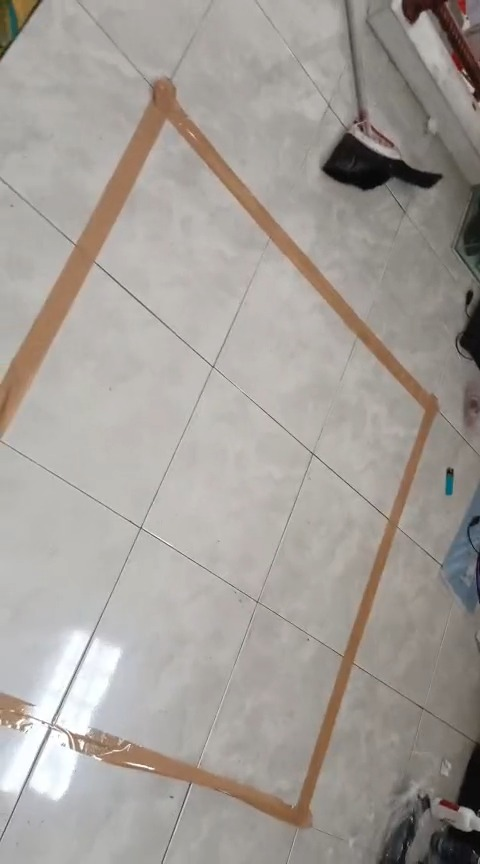floor marking: (0, 79, 437, 827)
